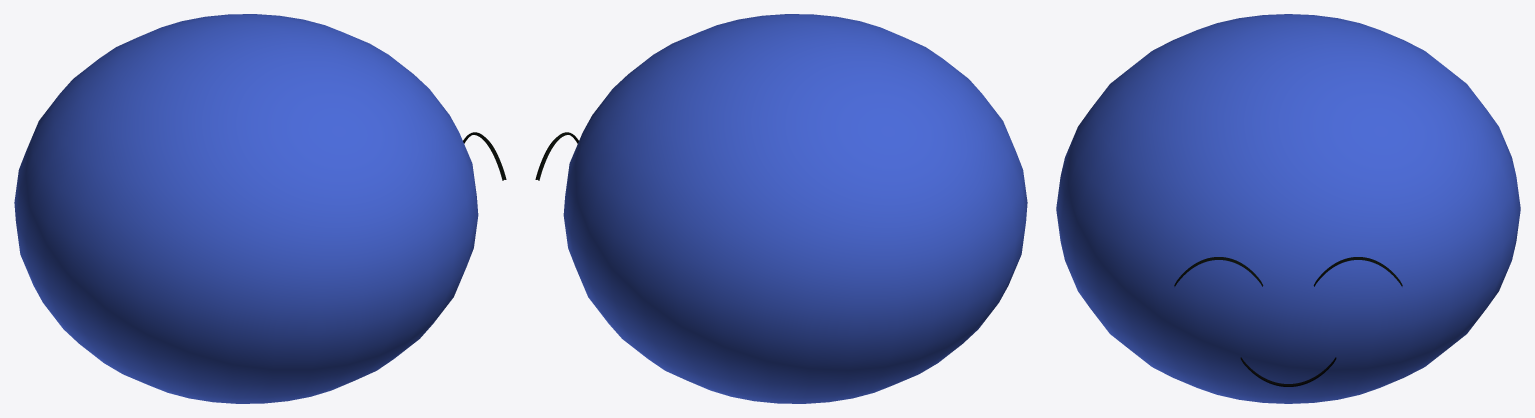
The model's file is blue.dae.
The picture shows the model from 3 angles, left to right: view 1: azimuth 30°, elevation 25°; view 2: azimuth 150°, elevation 25°; view 3: azimuth 270°, elevation 25°; orthographic projection.
Visible parts, largest first — view 1: Sphere; view 2: Sphere; view 3: Sphere.
Boxes of the visible parts, x1,y1,x2,y2 form: Sphere: (14, 14, 478, 403); Sphere: (563, 14, 1027, 403); Sphere: (1056, 14, 1520, 403).
Size of the model in its own units: 2.01 by 2 by 1.6.
